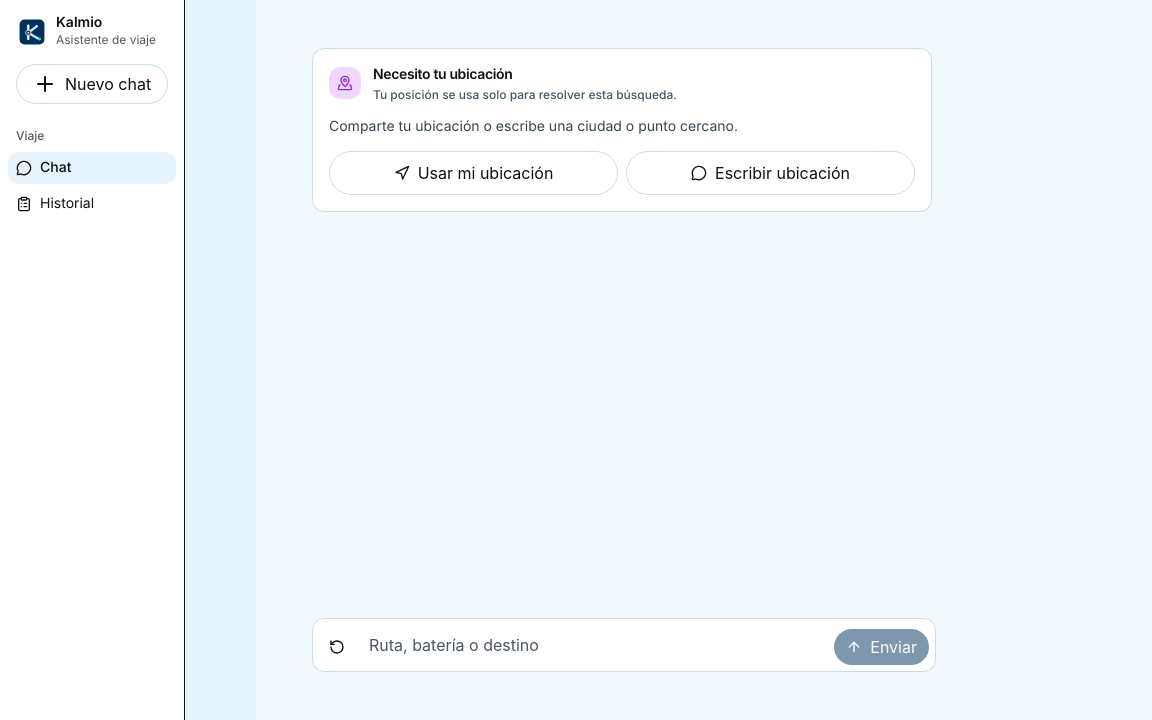
App › disables the composer when the agent service is unavailable
Click the link with aria-label "Chat": x=86, y=31 left=16, top=14, right=156, bottom=48
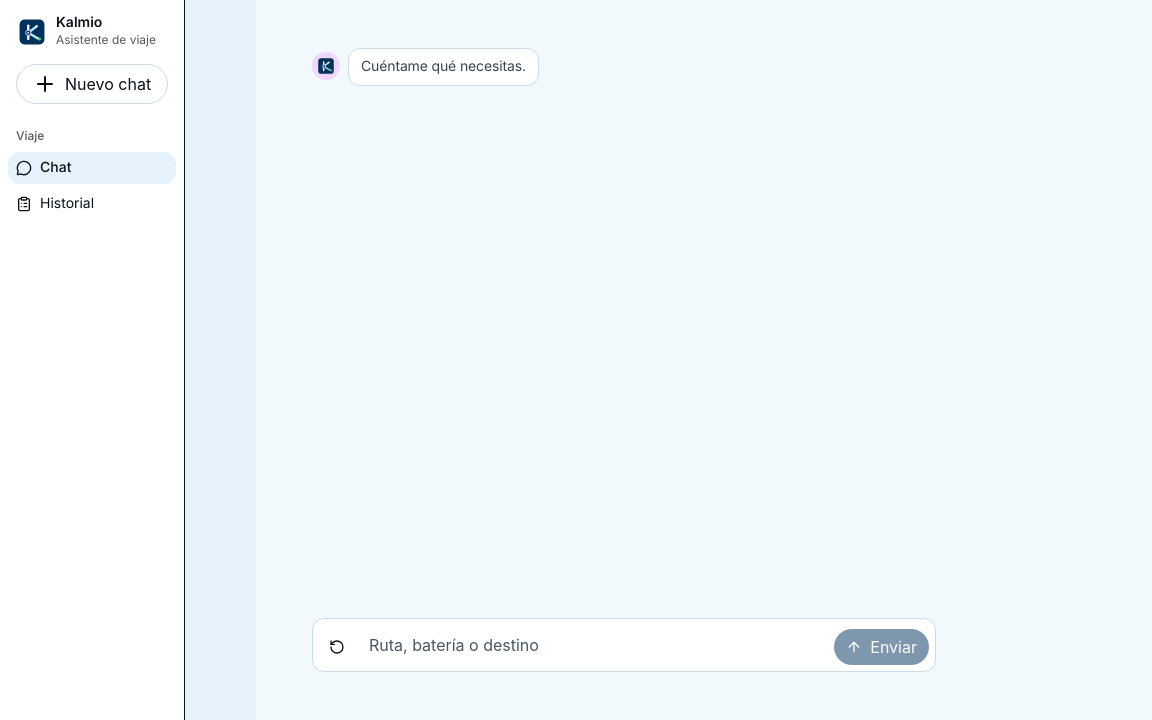
In the text box named "Mensaje para Kalmio": x=595, y=645 left=361, top=625, right=828, bottom=665, type "Carga ya en cordoba"
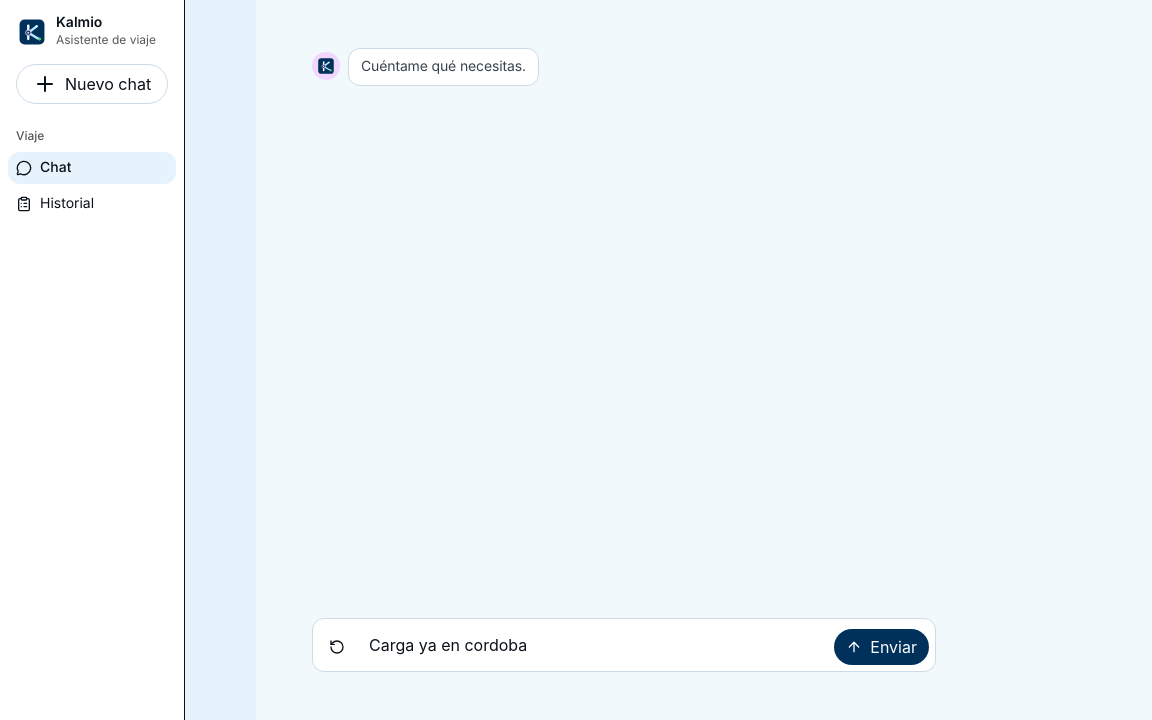
Click the button "Enviar": x=882, y=647 left=834, top=629, right=929, bottom=665
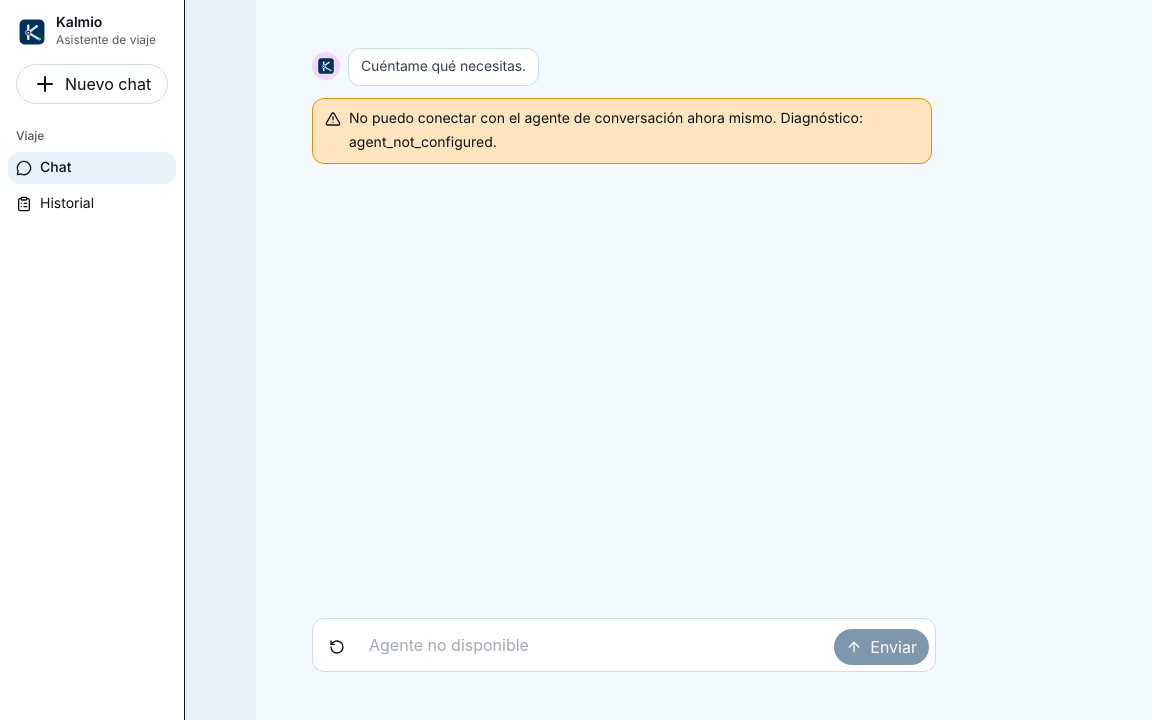
Expected: the text "Diagnóstico: agent_not_configured" is shown, left=349, top=110, right=863, bottom=152
Expected: the text box named "Mensaje para Kalmio" is disabled, left=361, top=625, right=828, bottom=665
Expected: the button "Enviar" is disabled, left=834, top=629, right=929, bottom=665
